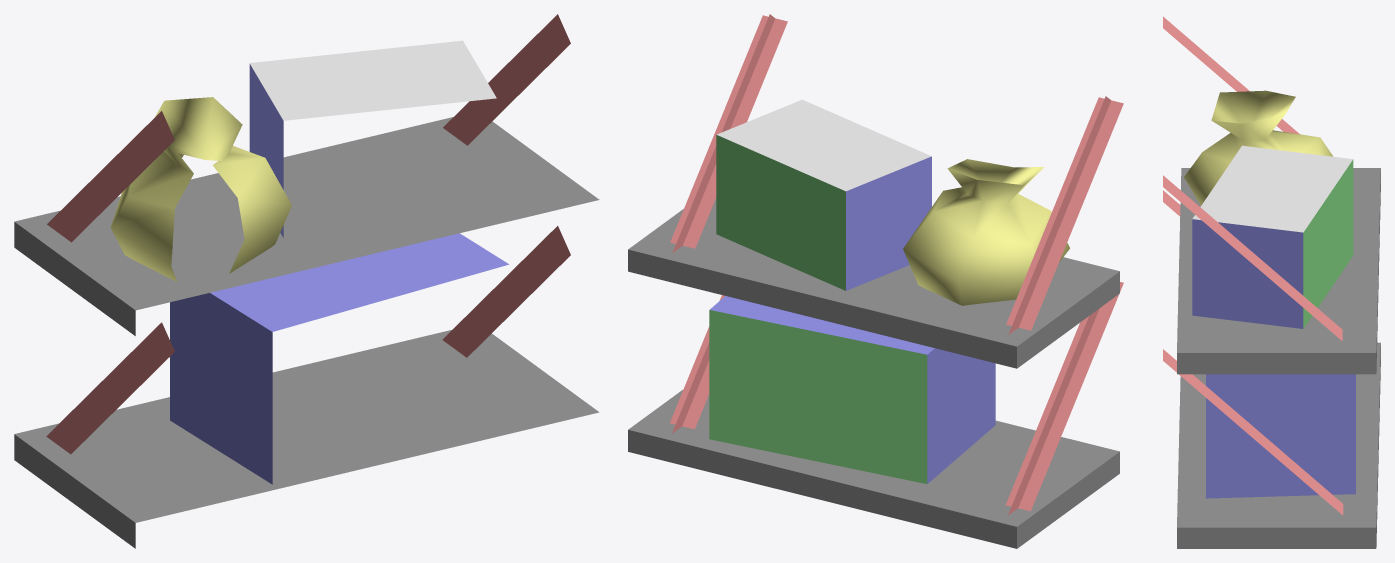
Rendered from L2fortress_01_S__fort01_command_in_obj08.gltf.
3 views of the same model, side by side, from view 1: azimuth 30°, elevation 25°; view 2: azimuth 150°, elevation 25°; view 3: azimuth 270°, elevation 25° (orthographic). The views are drawn at different scales.
Parts seen in each view (by area): view 1: fort01_command_in_obj08; view 2: fort01_command_in_obj08; view 3: fort01_command_in_obj08.
Part boxes in pixels (left/top/right/bottom): fort01_command_in_obj08: left=14, top=14, right=599, bottom=548; fort01_command_in_obj08: left=628, top=14, right=1123, bottom=548; fort01_command_in_obj08: left=1163, top=16, right=1380, bottom=548.
Size of the model in its own units: 0.5009 by 0.4529 by 0.2618.
